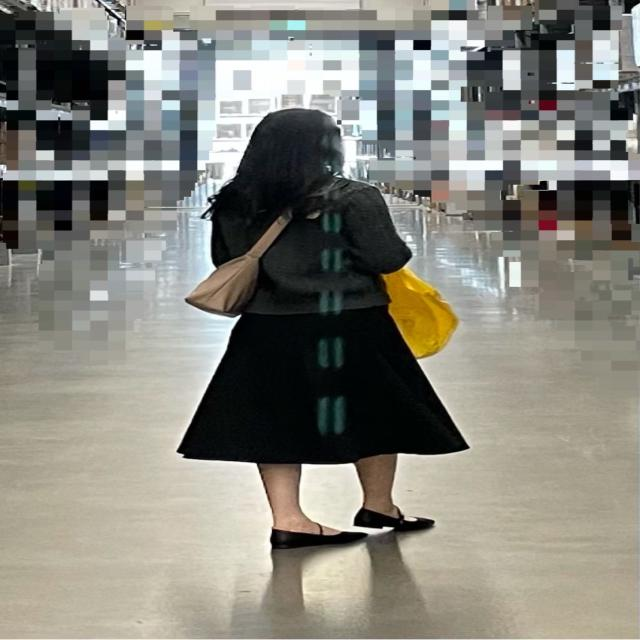blazer: (211, 177, 412, 318)
skirt: (178, 308, 475, 463)
